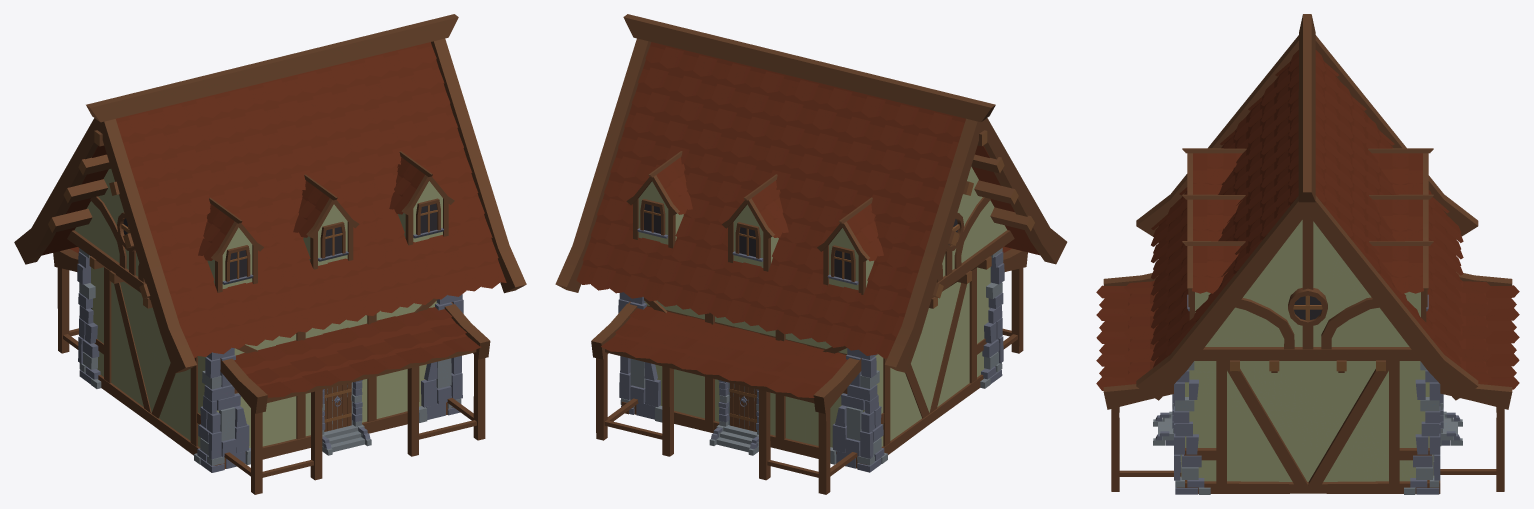
Rendered from Fantasy_Inn.glb.
The picture shows the model from 3 angles, left to right: view 1: azimuth 30°, elevation 25°; view 2: azimuth 150°, elevation 25°; view 3: azimuth 270°, elevation 25°; orthographic projection.
Visible parts, largest first — view 1: Inn; view 2: Inn; view 3: Inn.
Part boxes in pixels (left/top/right/bottom): Inn: left=14, top=14, right=526, bottom=494; Inn: left=555, top=14, right=1067, bottom=494; Inn: left=1096, top=14, right=1519, bottom=494.
Size of the model in its own units: 4.03 by 3.49 by 4.02.
1 material, 1 textured.
